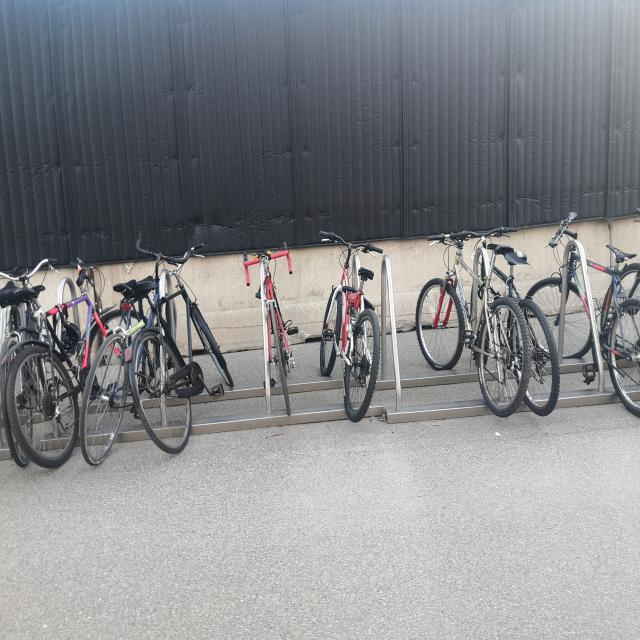Bicycle: (64, 228, 219, 479), (117, 249, 239, 469), (15, 262, 127, 488), (411, 212, 526, 424), (526, 216, 640, 424), (469, 212, 562, 424), (0, 265, 89, 473), (318, 216, 390, 424), (248, 210, 302, 422)
